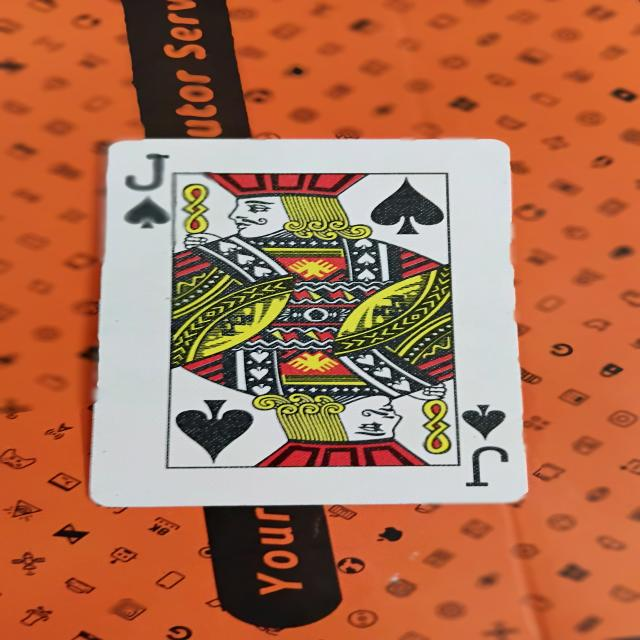JS: (94, 130, 544, 504)
